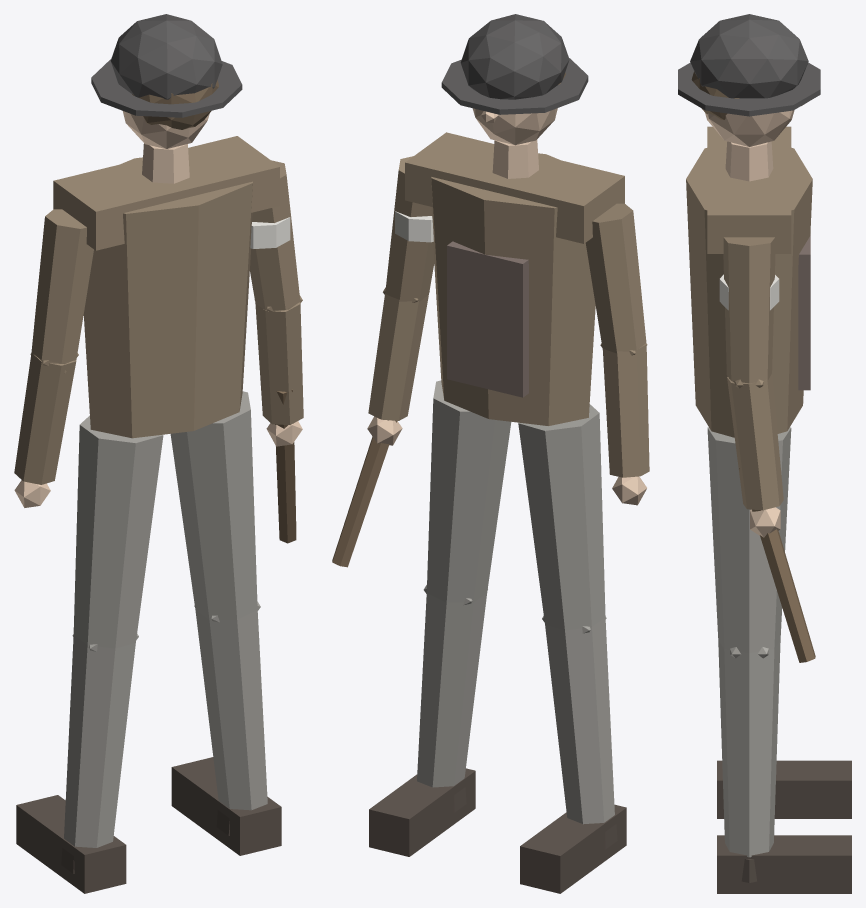
The model's file is special_constable_standing.glb.
The picture shows the model from 3 angles, left to right: view 1: azimuth 30°, elevation 25°; view 2: azimuth 150°, elevation 25°; view 3: azimuth 270°, elevation 25°; orthographic projection. The views are drawn at different scales.
Visible parts, largest first — view 1: tweed_brown, tweed_grey, boot, wool_black, skin, wood_dk, hair, armband; view 2: tweed_brown, tweed_grey, boot, waistcoat, wool_black, skin, wood_dk, armband; view 3: tweed_brown, tweed_grey, boot, wool_black, skin, wood_dk, waistcoat, armband, hair.
Part boxes in pixels (bbox=[...]): tweed_brown: bbox=[14, 136, 303, 484]; tweed_grey: bbox=[64, 391, 267, 847]; boot: bbox=[16, 757, 281, 893]; wool_black: bbox=[91, 14, 242, 117]; skin: bbox=[14, 111, 302, 507]; wood_dk: bbox=[275, 389, 296, 543]; hair: bbox=[132, 80, 218, 129]; armband: bbox=[250, 217, 290, 248]; tweed_brown: bbox=[368, 132, 649, 477]; tweed_grey: bbox=[417, 380, 614, 824]; boot: bbox=[369, 768, 626, 893]; waistcoat: bbox=[447, 241, 528, 397]; wool_black: bbox=[441, 14, 588, 114]; skin: bbox=[367, 108, 646, 505]; wood_dk: bbox=[332, 420, 397, 567]; armband: bbox=[395, 211, 433, 242]; tweed_brown: bbox=[686, 126, 812, 510]; tweed_grey: bbox=[707, 427, 791, 857]; boot: bbox=[717, 760, 851, 893]; wool_black: bbox=[678, 14, 820, 116]; skin: bbox=[705, 104, 804, 537]; wood_dk: bbox=[739, 468, 815, 662]; waistcoat: bbox=[798, 234, 810, 390]; armband: bbox=[719, 274, 779, 310]; hair: bbox=[691, 71, 739, 119].
Bounding box in the file's own units: 0.6841 × 1.83 × 0.3477.
